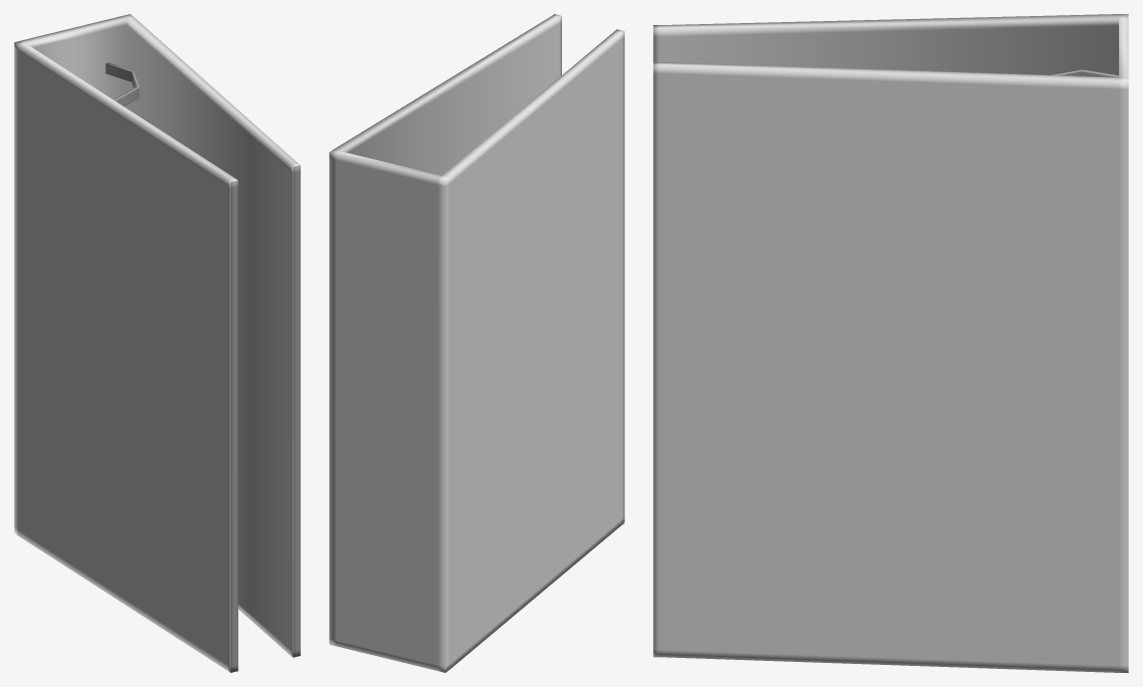
The model's file is RACCOGLITORE VUOTO.FBX.
The picture shows the model from 3 angles, left to right: view 1: azimuth 30°, elevation 25°; view 2: azimuth 150°, elevation 25°; view 3: azimuth 270°, elevation 25°; orthographic projection. The views are drawn at different scales.
Visible parts, largest first — view 1: raccoglitore vuoto; view 2: raccoglitore vuoto; view 3: raccoglitore vuoto.
Boxes of the visible parts, x1,y1,x2,y2 form: raccoglitore vuoto: (14, 14, 300, 672); raccoglitore vuoto: (329, 14, 624, 672); raccoglitore vuoto: (653, 14, 1128, 672).
Size of the model in its own units: 0.1009 by 0.4088 by 0.2982.
